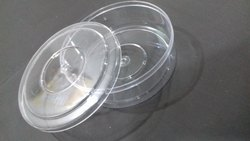PlasticBox: (17, 1, 177, 135)
